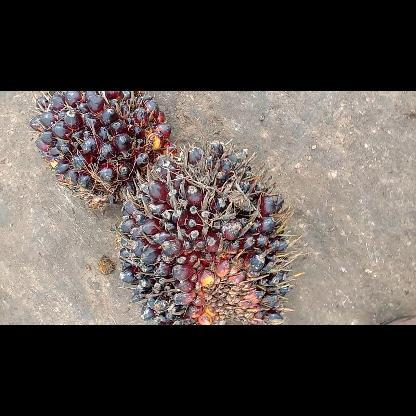TBS mentah: (120, 142, 292, 324), (30, 90, 174, 209)
